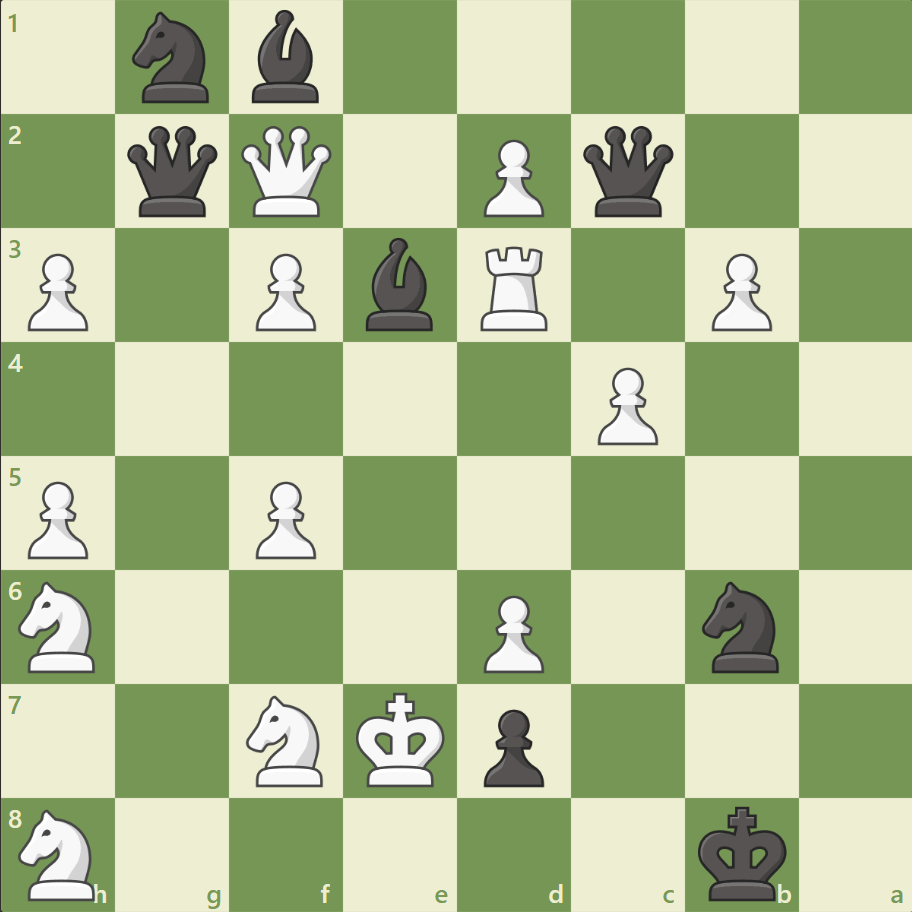K: (351, 685, 451, 793)
N: (238, 688, 335, 791), (11, 802, 108, 904), (11, 575, 108, 677)
P: (474, 586, 549, 677), (247, 473, 322, 564), (20, 473, 95, 564), (701, 246, 776, 337), (247, 246, 322, 337), (20, 246, 95, 337), (474, 132, 549, 223), (588, 359, 662, 450)
Q: (237, 122, 336, 222)
R: (473, 239, 556, 336)
b: (358, 233, 442, 336), (244, 6, 328, 109)
k: (692, 798, 792, 906)
n: (124, 7, 222, 110), (692, 575, 789, 677)
p: (474, 700, 549, 791)
q: (578, 122, 677, 222), (124, 122, 223, 222)
